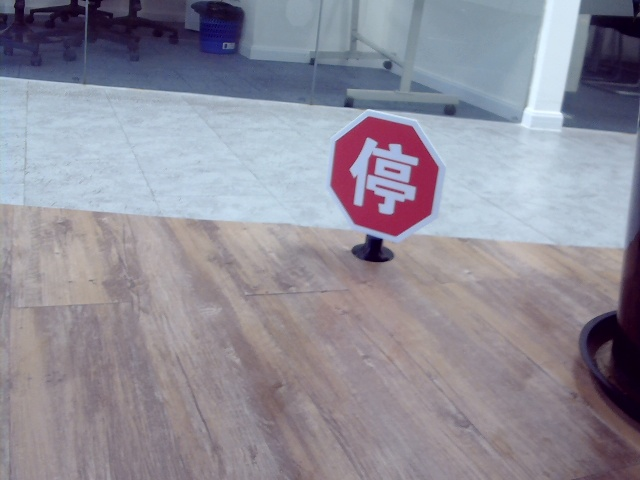stop: (348, 130, 418, 212)
